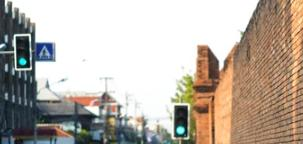green_light: (172, 103, 190, 140), (14, 34, 32, 70)
